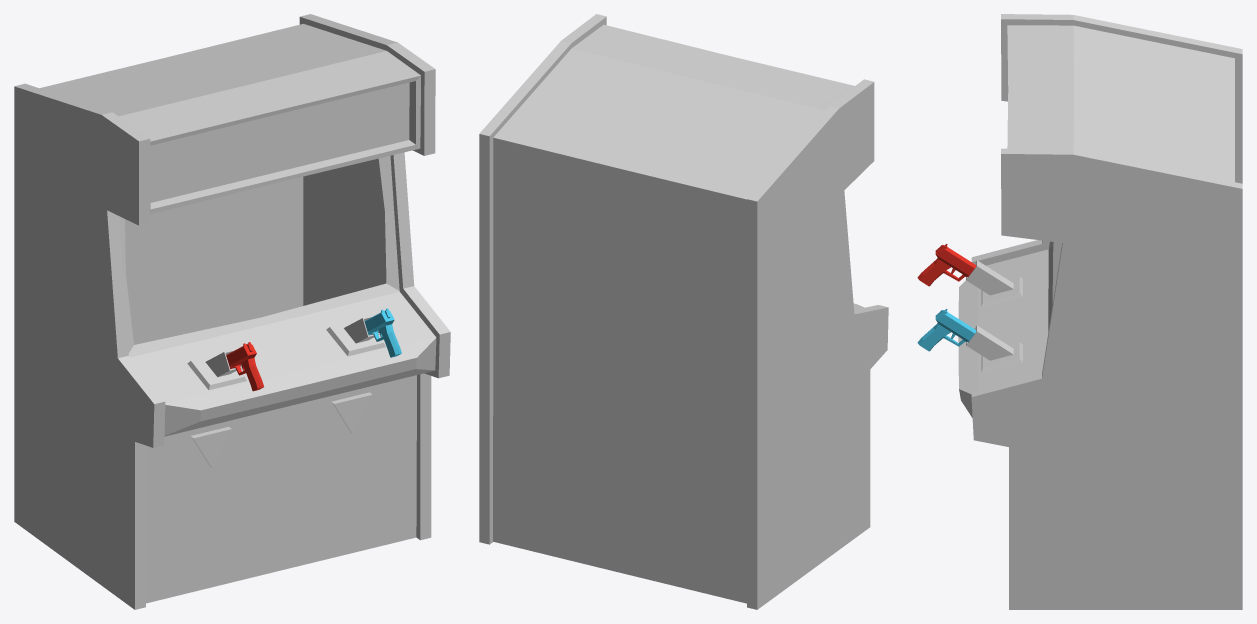
File: Arcade Shooter.fbx
3 views of the same model, side by side, from view 1: azimuth 30°, elevation 25°; view 2: azimuth 150°, elevation 25°; view 3: azimuth 270°, elevation 25° (orthographic). The views are drawn at different scales.
Visible parts, largest first — view 1: arcade_shooter_lp, arcade_shooter_lp_hg1, arcade_shooter_lp_hg2; view 2: arcade_shooter_lp; view 3: arcade_shooter_lp, arcade_shooter_lp_hg2, arcade_shooter_lp_hg1.
Boxes of the visible parts, x1,y1,x2,y2 form: arcade_shooter_lp: (14, 14, 450, 609); arcade_shooter_lp_hg1: (226, 342, 263, 391); arcade_shooter_lp_hg2: (364, 308, 401, 357); arcade_shooter_lp: (479, 14, 888, 609); arcade_shooter_lp: (958, 14, 1242, 609); arcade_shooter_lp_hg2: (917, 309, 976, 351); arcade_shooter_lp_hg1: (917, 244, 976, 286).
Size of the model in its own units: 1.18 by 1.79 by 1.16.
